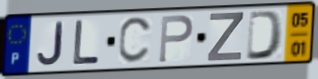C: (117, 15, 155, 66)
D: (244, 9, 285, 62)
J: (35, 21, 65, 67)
L: (71, 19, 101, 68)
P: (157, 14, 195, 65)
Z: (205, 11, 245, 63)
